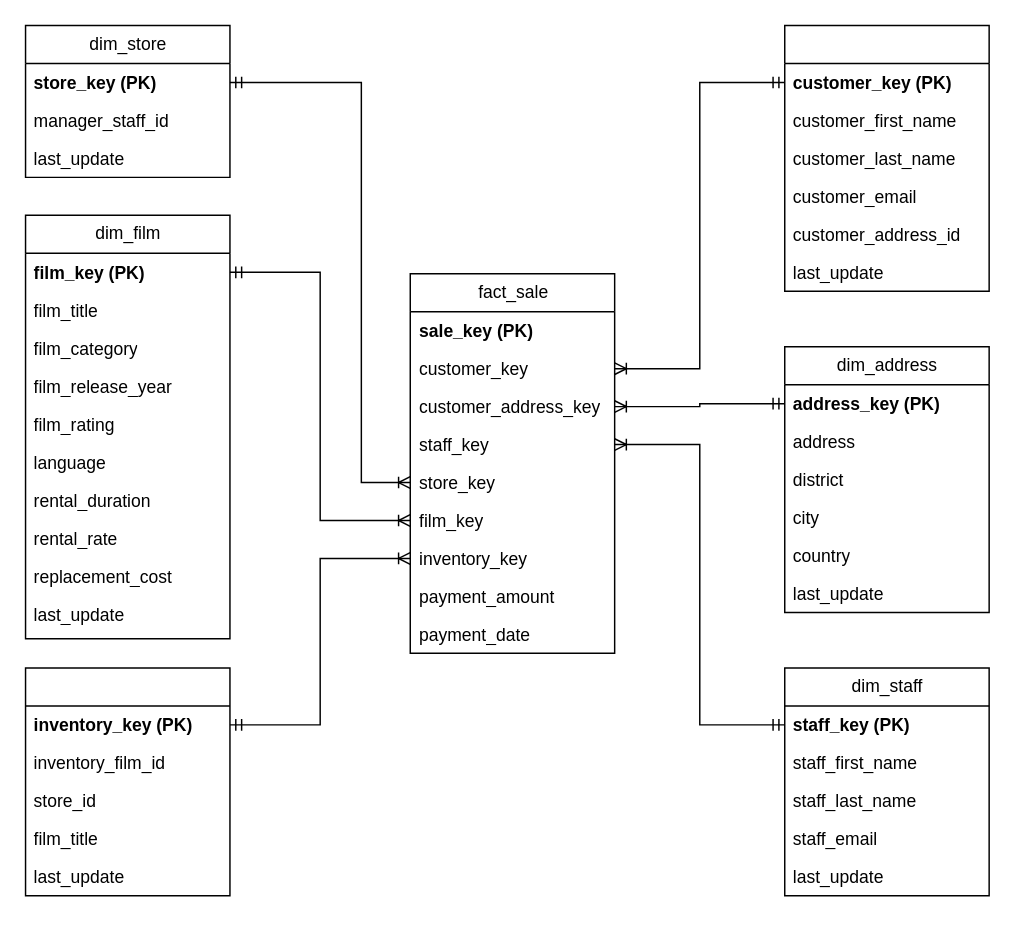
Image size: 1015x926. Some labels were removed from this diagram. The shapes that lost their labels are listed below. From the top down, each one's box as (x1, y1, x2, y2) in pixels, then its label:
(783, 24, 989, 291): dim_customer
(24, 666, 230, 896): dim_inventory
